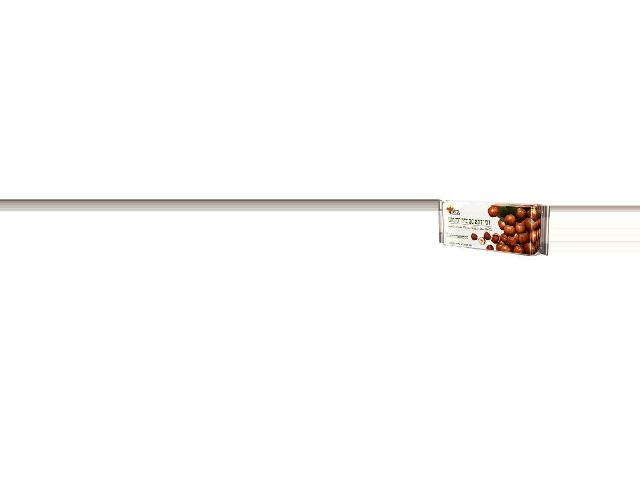chocolate: (437, 203, 548, 256)
